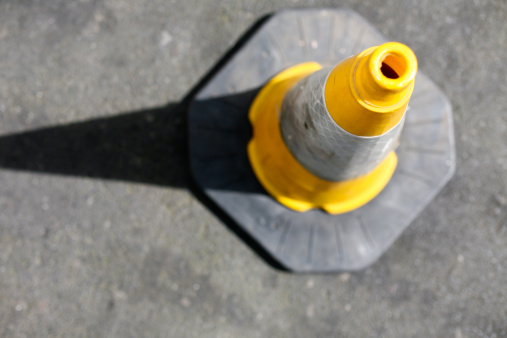trafficcone: (185, 9, 456, 274)
